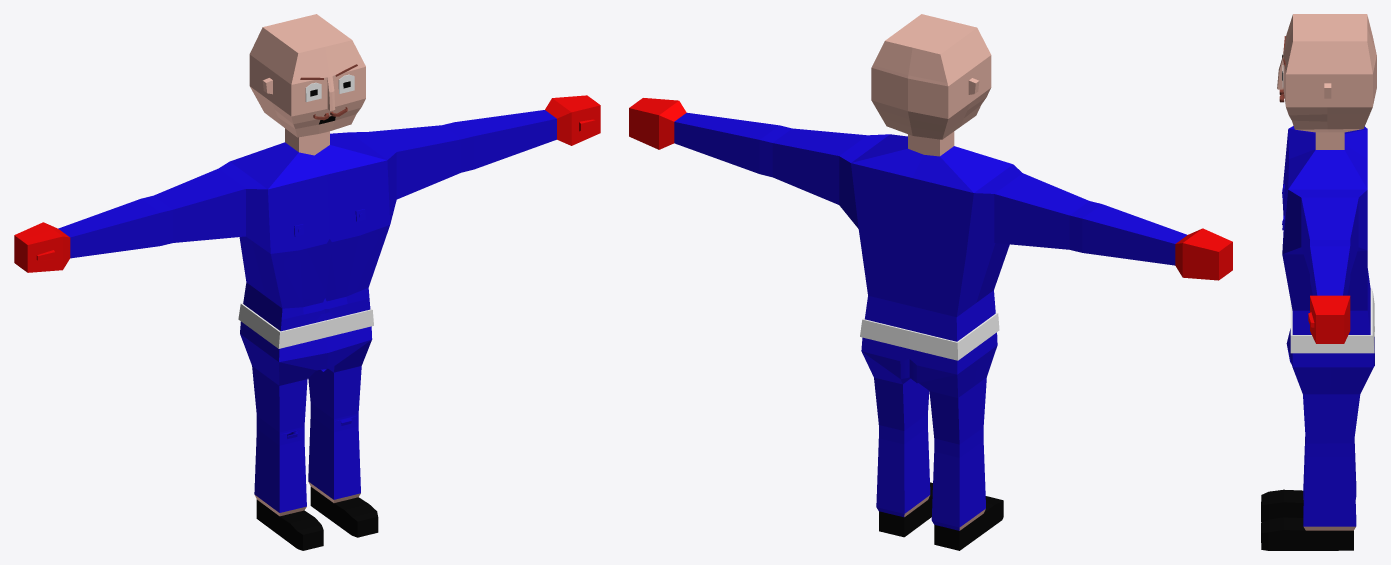
The model's file is Fencer.fbx.
3 views of the same model, side by side, from view 1: azimuth 30°, elevation 25°; view 2: azimuth 150°, elevation 25°; view 3: azimuth 270°, elevation 25° (orthographic). The views are drawn at different scales.
Parts seen in each view (by area): view 1: BlockyMesh; view 2: BlockyMesh; view 3: BlockyMesh.
Boxes of the visible parts, x1,y1,x2,y2 form: BlockyMesh: [14, 14, 600, 550]; BlockyMesh: [629, 14, 1232, 550]; BlockyMesh: [1261, 14, 1376, 550].
Size of the model in its own units: 235 by 190 by 39.56.
